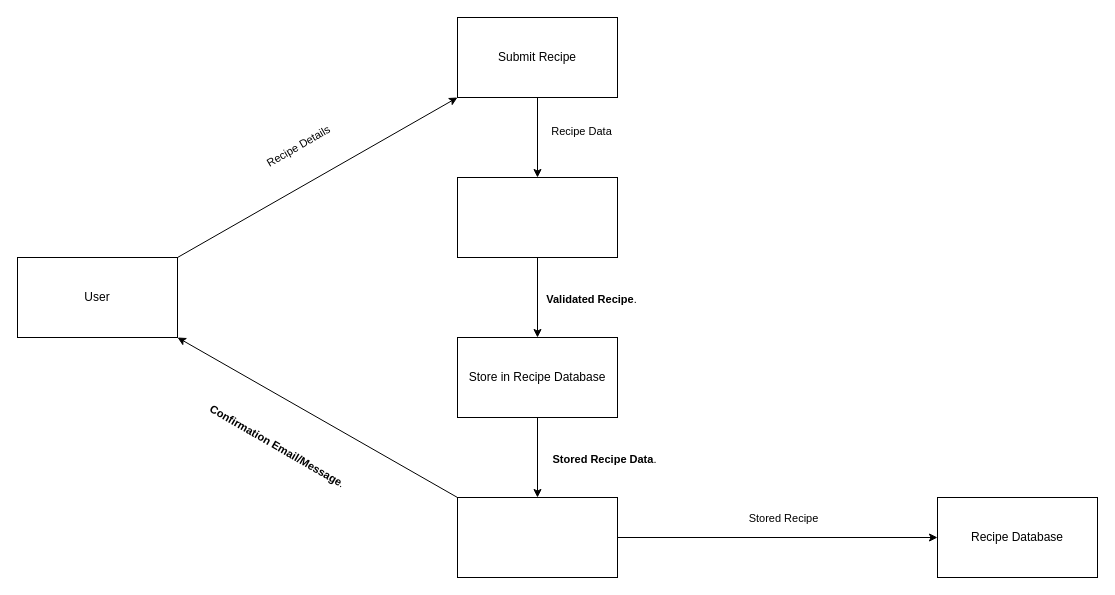
Image size: 1115x595. Some labels were removed from this diagram. Here are the shapes that lost their labels. From the top down, the centre of each, then its label:
At point (537, 217): "Validate Recipe".
At point (537, 537): "Send Submission Confirmation".
